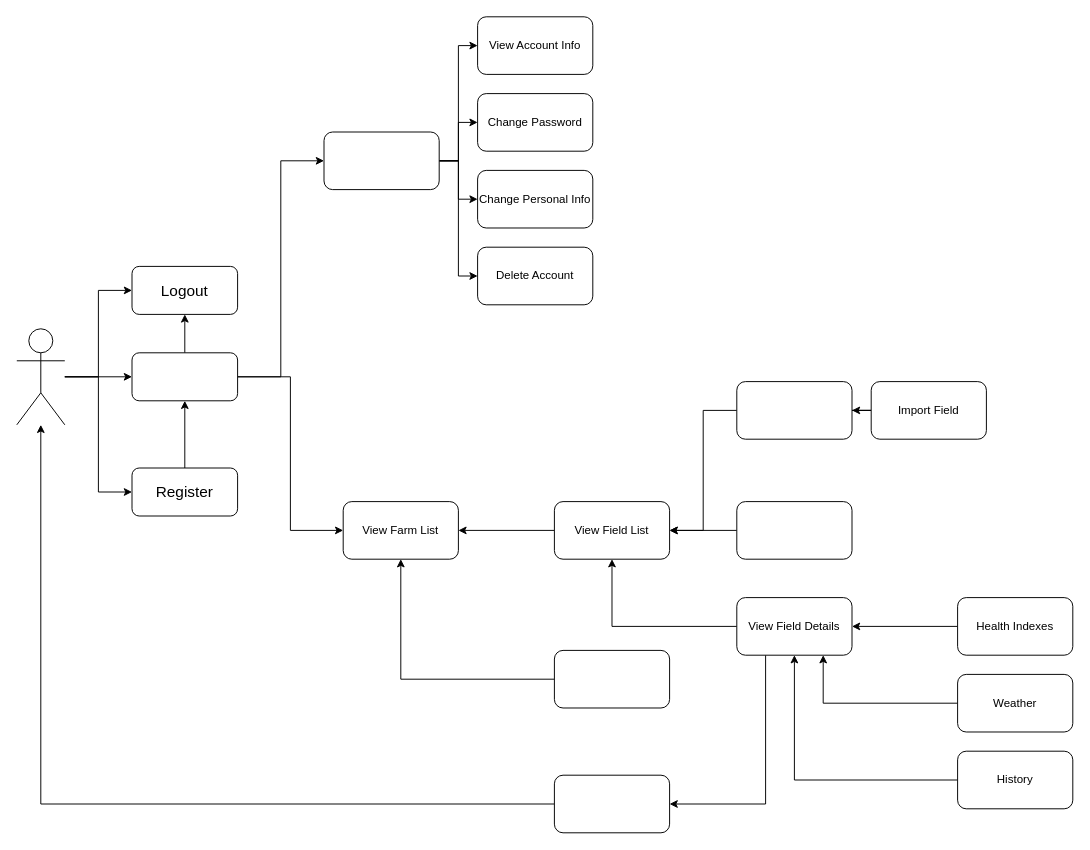
This 1090x850 diagram has some shape labels left out. Here are the shapes that lost their labels. From the top down, the centre of each, then its label:
At pixel 381 160: "Account & Profile".
At pixel 40 376: "Client".
At pixel 184 376: "Login".
At pixel 794 410: "Add New Field".
At pixel 794 530: "Filter Field List".
At pixel 611 678: "Filter Farm List".
At pixel 611 803: "Alerts".
